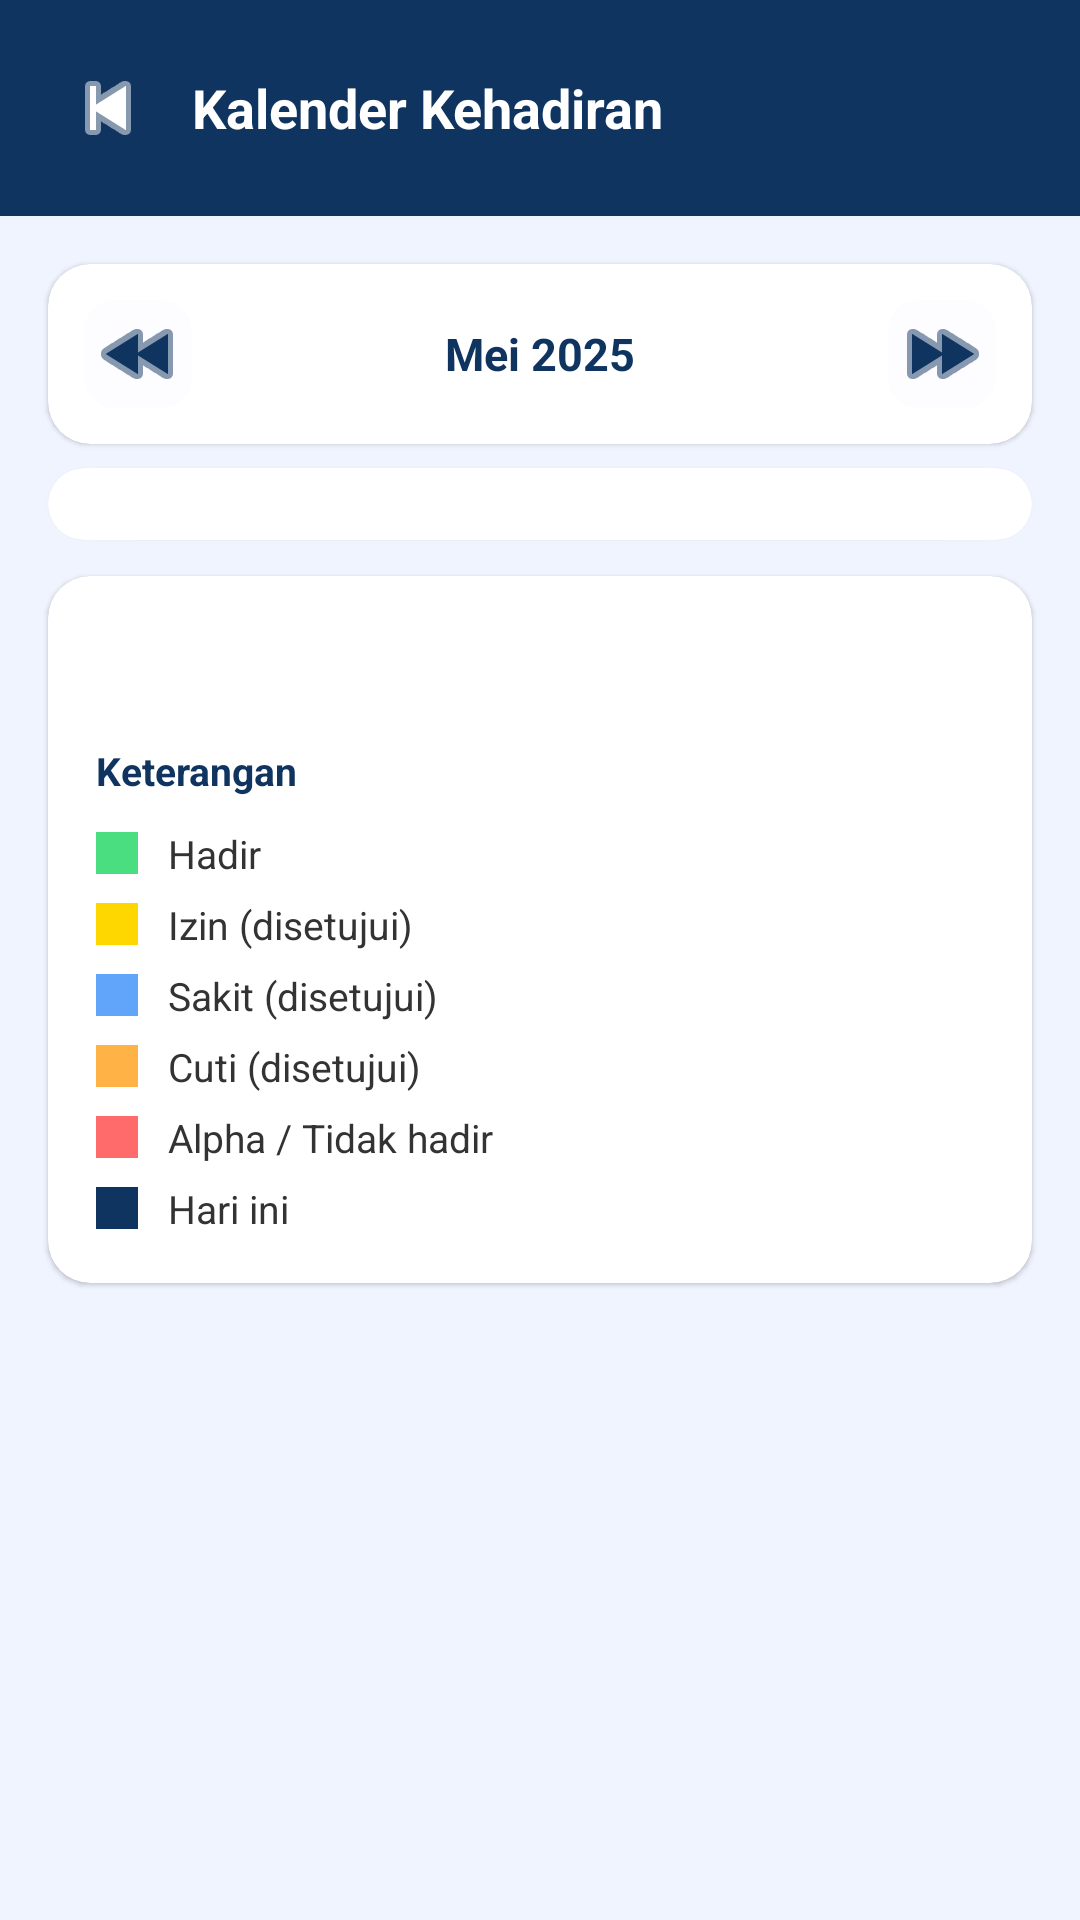

Screen size 1080*1920. Icon name, then its center in pixels as point (x, y):
Bulan berikutnya: point (943, 354)
Bulan sebelumnya: point (137, 354)
Kembali: point (108, 108)
